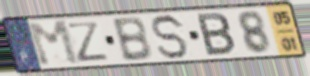8: (236, 9, 273, 56)
B: (110, 15, 155, 63), (195, 12, 238, 58)
M: (24, 19, 83, 68)
S: (150, 13, 191, 62)
Z: (65, 20, 111, 63)
